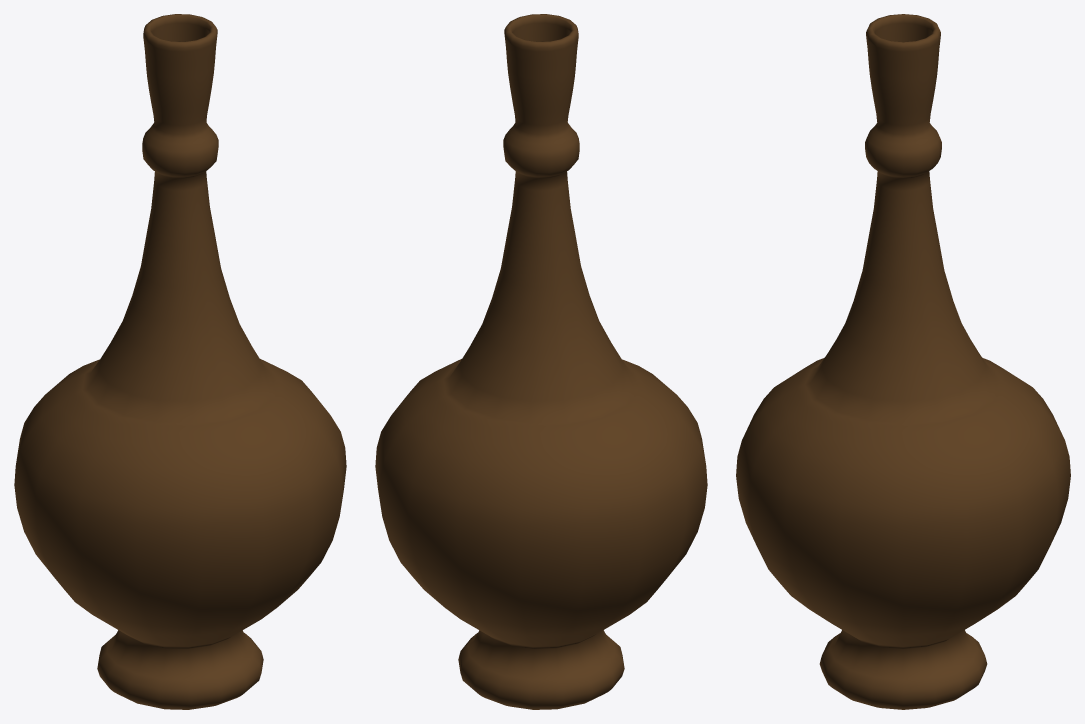
File: Pin_01.fbx
3 views of the same model, side by side, from view 1: azimuth 30°, elevation 25°; view 2: azimuth 150°, elevation 25°; view 3: azimuth 270°, elevation 25° (orthographic).
Parts seen in each view (by area): view 1: Plane; view 2: Plane; view 3: Plane.
Boxes of the visible parts, x1,y1,x2,y2 form: Plane: (14,14,346,709); Plane: (375,14,707,709); Plane: (736,14,1070,709).
Bounding box in the file's own units: 50.49 × 50.49 × 110.
